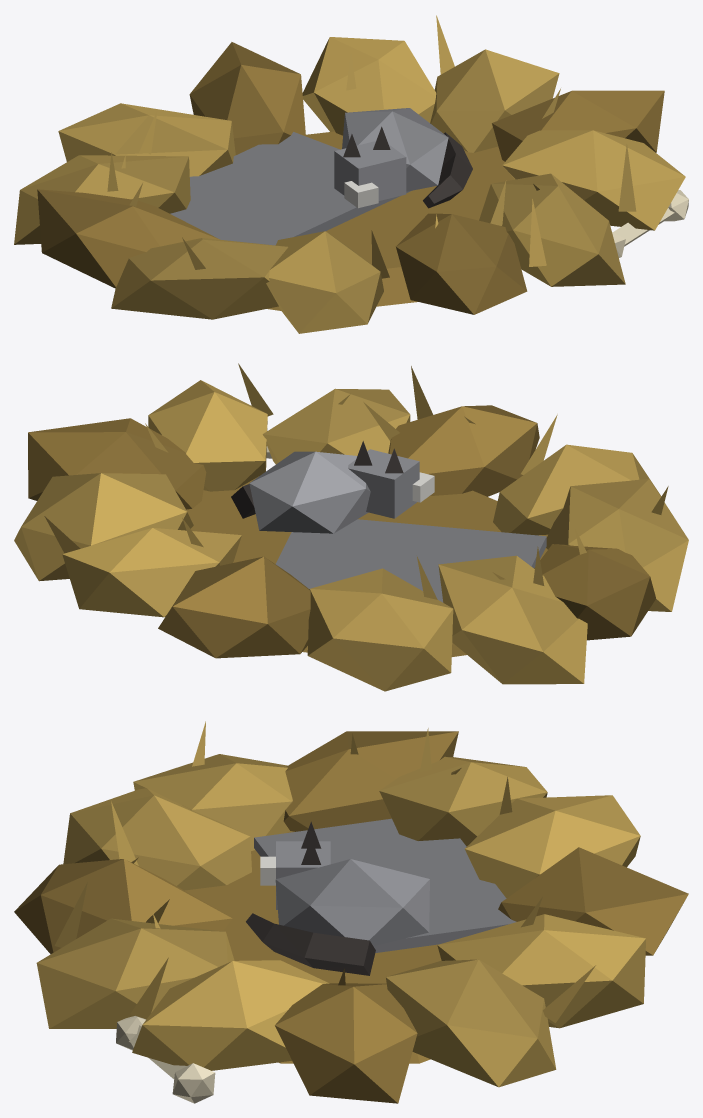
The model's file is wolf_den_bed.glb.
3 views of the same model, one above another, from view 1: azimuth 30°, elevation 25°; view 2: azimuth 150°, elevation 25°; view 3: azimuth 270°, elevation 25° (orthographic). The views are drawn at different scales.
Parts seen in each view (by area): view 1: wolf_den_bed; view 2: wolf_den_bed; view 3: wolf_den_bed.
Part boxes in pixels (x1=…): wolf_den_bed: x1=14, y1=15, x2=688, y2=333; wolf_den_bed: x1=14, y1=363, x2=688, y2=691; wolf_den_bed: x1=14, y1=721, x2=688, y2=1103.
Bounding box in the file's own units: 2.01 × 0.3737 × 1.73.
